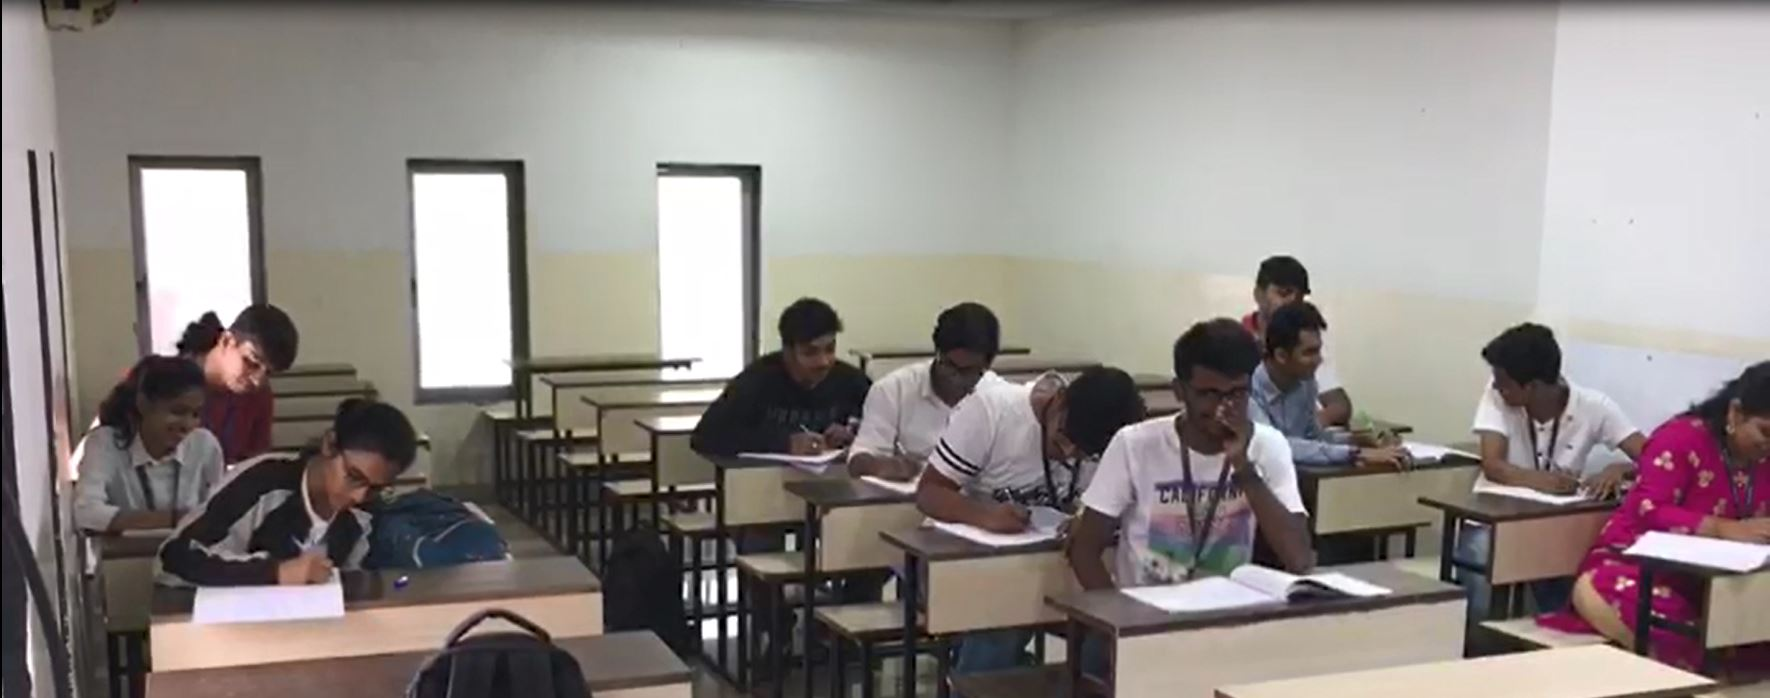gesture: (1208, 392, 1268, 492)
student: (167, 398, 433, 596), (942, 308, 1157, 551), (1641, 282, 1770, 665), (842, 296, 1033, 459), (700, 299, 881, 459), (1267, 302, 1417, 484), (167, 294, 331, 438), (65, 379, 228, 516)
studentcopying: (1082, 337, 1307, 591), (1460, 311, 1636, 513)
